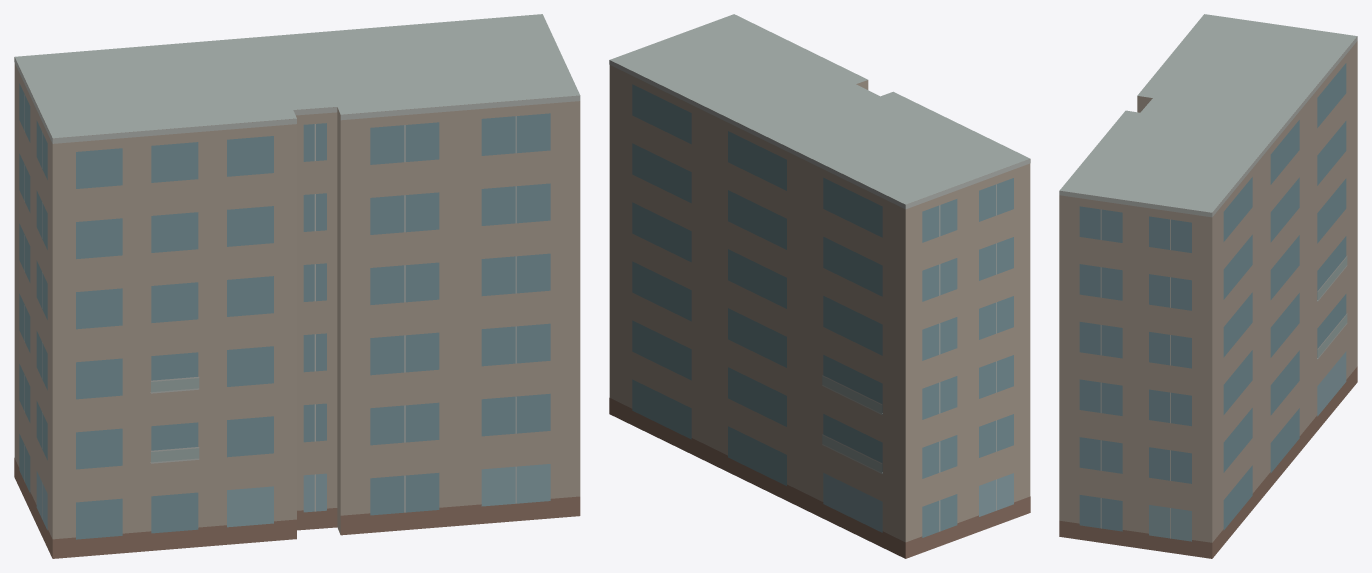
The model's file is survey-upis-32951109.glb.
3 views of the same model, side by side, from view 1: azimuth 30°, elevation 25°; view 2: azimuth 150°, elevation 25°; view 3: azimuth 270°, elevation 25° (orthographic). The views are drawn at different scales.
Parts seen in each view (by area): view 1: survey-upis-32951109.tmp; view 2: survey-upis-32951109.tmp; view 3: survey-upis-32951109.tmp.
Boxes of the visible parts, left/top/right/bottom form: survey-upis-32951109.tmp: left=14, top=14, right=580, bottom=558; survey-upis-32951109.tmp: left=609, top=14, right=1030, bottom=558; survey-upis-32951109.tmp: left=1059, top=14, right=1357, bottom=558.
Bounding box in the file's own units: 22.55 × 18.3 × 14.29.
